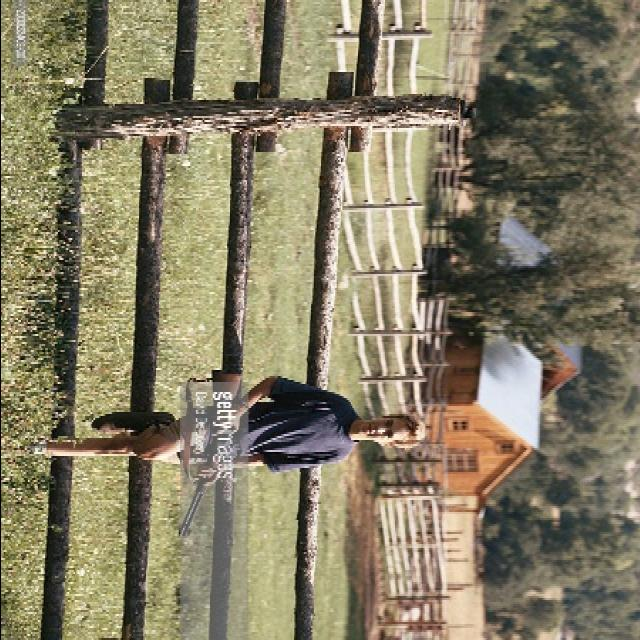rifle: (176, 363, 248, 543)
